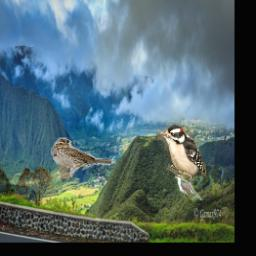Cuckoo: (175, 175, 202, 201)
Sparrow: (52, 138, 117, 179)
Woodpecker: (157, 126, 206, 182)
